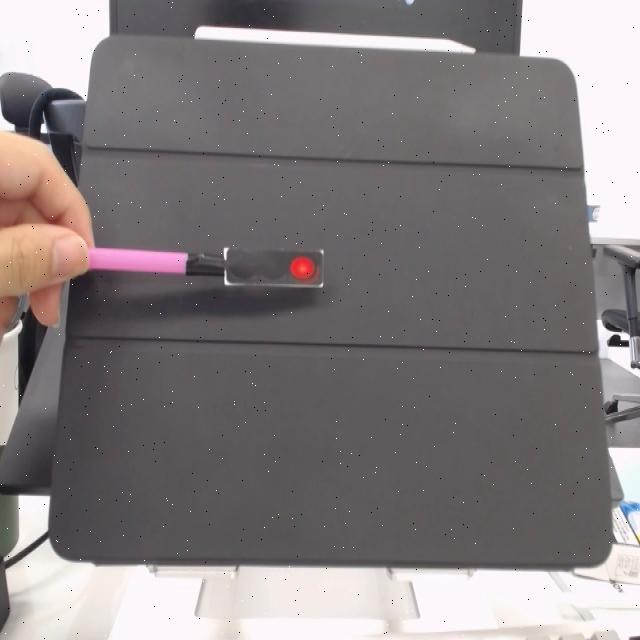traffic light: (221, 244, 328, 303)
